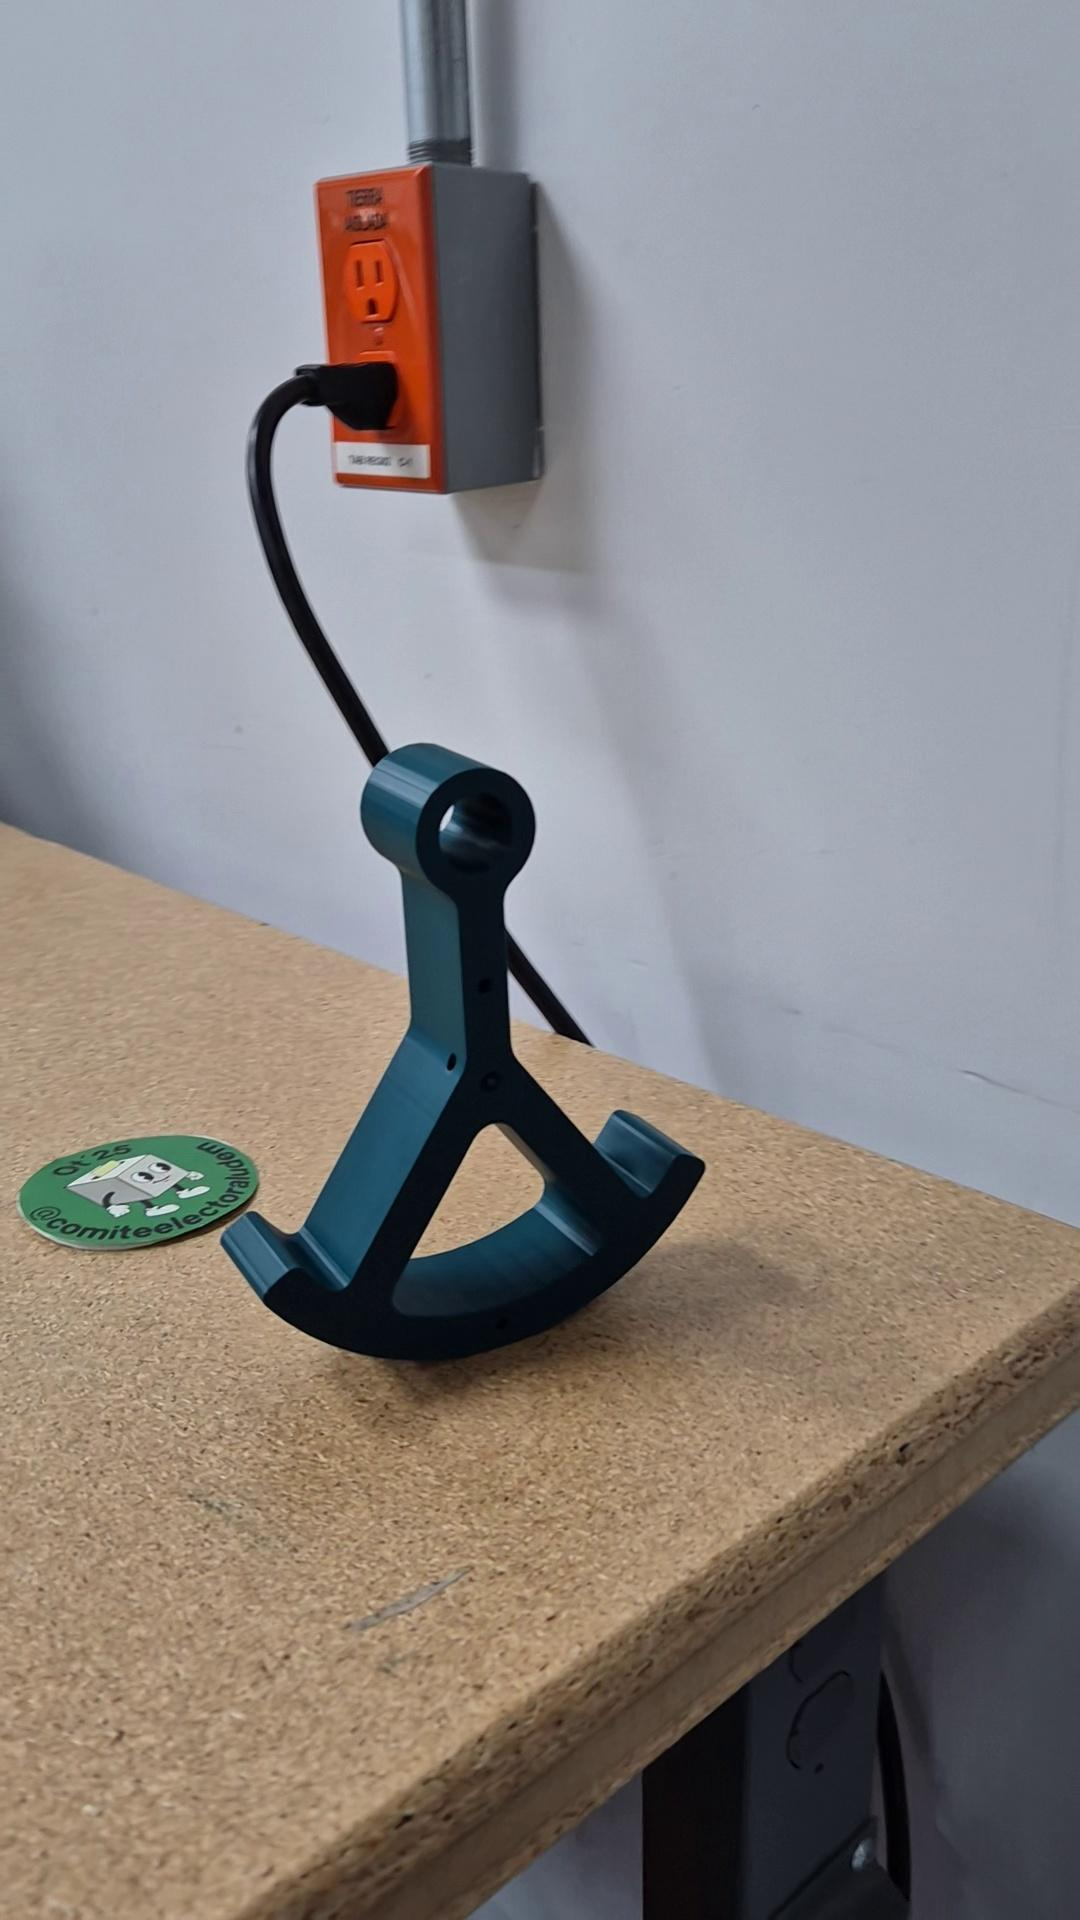Paddles: (216, 740, 711, 1369)
